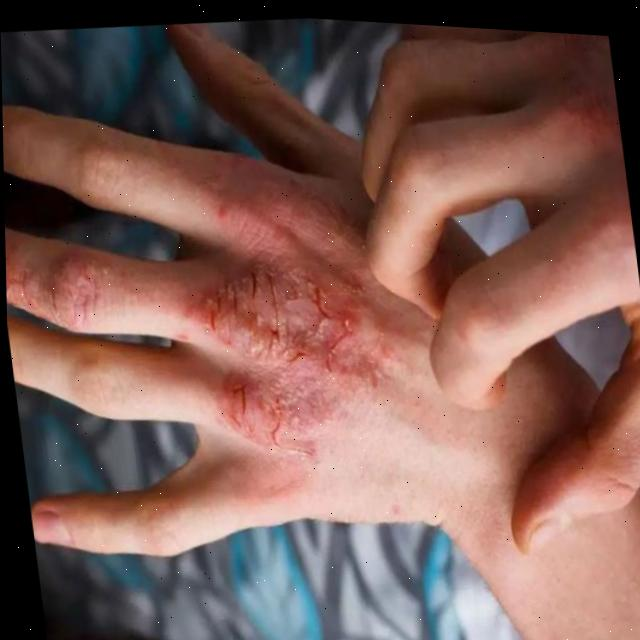Eczema: (4, 159, 391, 489)
